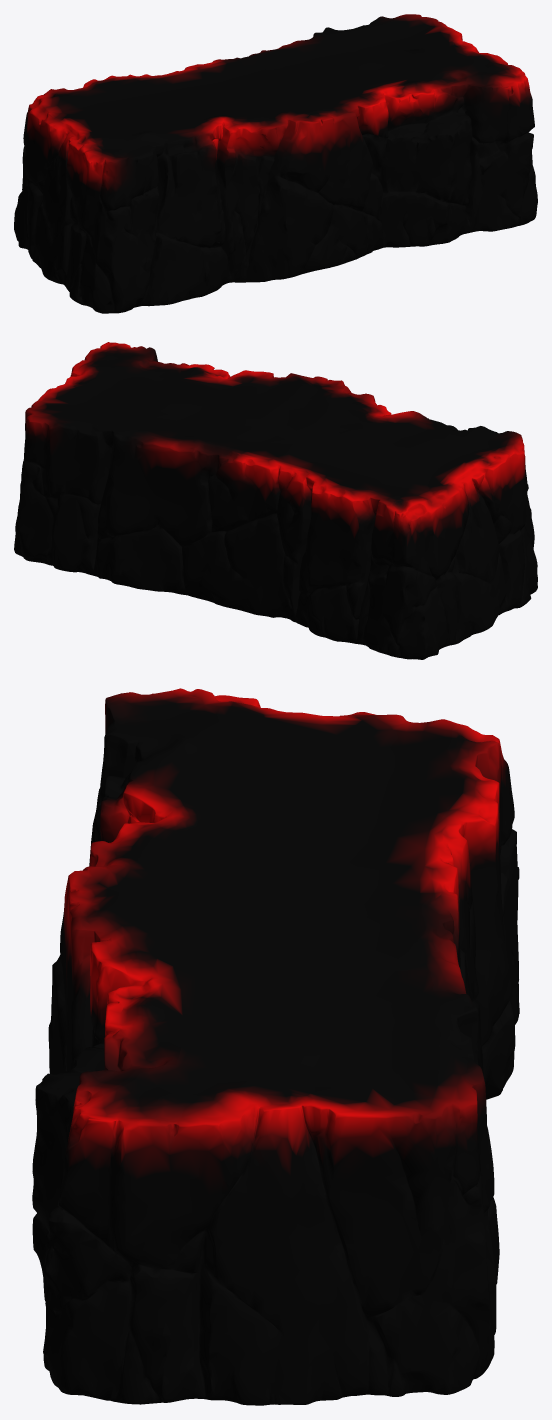
The model's file is OuterBank_04_LargeBlocks.fbx.
The picture shows the model from 3 angles, top to bottom: view 1: azimuth 30°, elevation 25°; view 2: azimuth 150°, elevation 25°; view 3: azimuth 270°, elevation 25°; orthographic projection. The views are drawn at different scales.
Visible parts, largest first — view 1: OuterBank_04_LargeBlocks; view 2: OuterBank_04_LargeBlocks; view 3: OuterBank_04_LargeBlocks.
Boxes of the visible parts, x1,y1,x2,y2 form: OuterBank_04_LargeBlocks: (14, 14, 537, 313); OuterBank_04_LargeBlocks: (14, 342, 537, 659); OuterBank_04_LargeBlocks: (32, 688, 519, 1405).
Bounding box in the file's own units: 11000 × 3600 × 5209.
